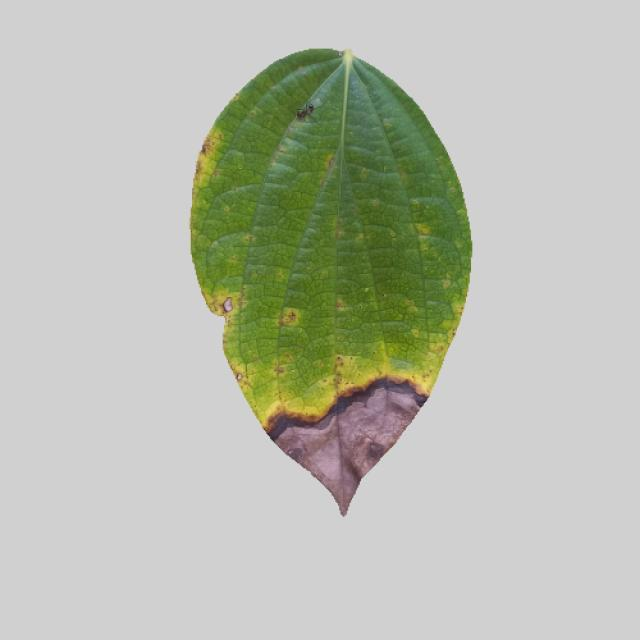leaf-blight: (180, 55, 480, 515)
